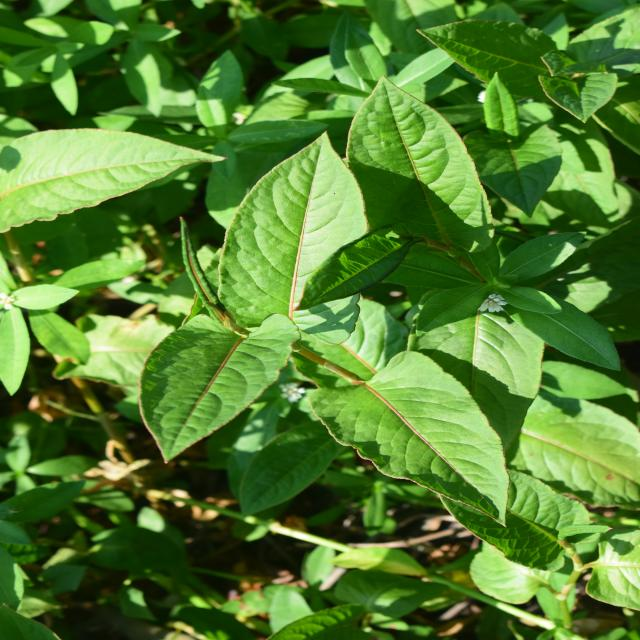Chinese_knotweed: (134, 121, 467, 503)
